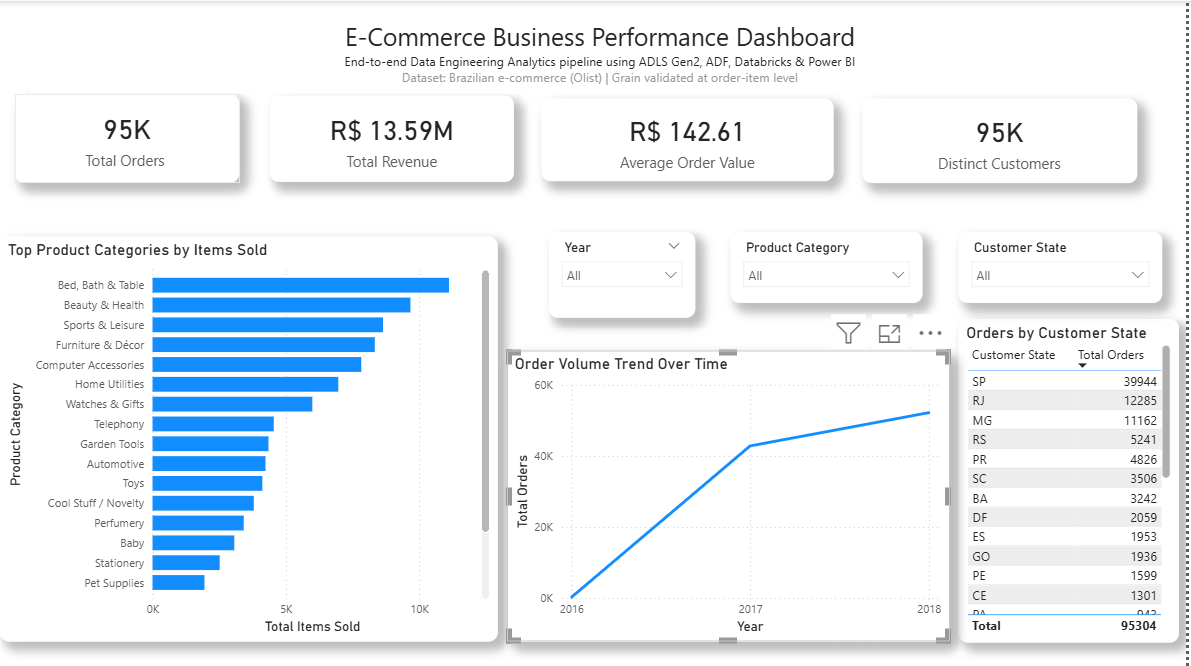

The page's visual inventory and layout, read from the dashboard file:
{"tool":"powerbi","page":{"name":"E-commerce Business Performance Dashboard","canvas":[1280,720],"ordinal":1},"visuals":[{"type":"card","fields":{"Values":["_Measures.Total Orders"]},"box":[16.9,100.3,242.3,95.8],"z":0},{"type":"card","fields":{"Values":["_Measures.Total Revenue"]},"box":[290.7,102.5,263.7,93.5],"z":1000},{"type":"card","fields":{"Values":["_Measures.Average Order Value"]},"box":[585.2,104.8,315.5,89],"z":2000},{"type":"card","fields":{"Values":["_Measures.Distinct Customers"]},"box":[931.8,104.8,296.3,91.3],"z":3000},{"type":"textbox","box":[32.7,14.6,1230.4,85.6],"z":4000},{"type":"lineChart","title":"Order Volume Trend Over Time","fields":{"Category":["dim_date.Year"],"Y":["_Measures.Total Orders (Order-level)"]},"box":[547.6,377.5,477.7,314.4],"z":5000},{"type":"barChart","title":"Top Product Categories by Items Sold","fields":{"Category":["dim_product_category.Product Category"],"Y":["_Measures.Total Items Sold"]},"box":[0,254.6,537.5,437.2],"z":6000},{"type":"tableEx","title":"Orders by Customer State","fields":{"Values":["dim_customers.Customer State","_Measures.Total Orders (Order-level)"]},"box":[1034.4,342.5,237.7,349.3],"z":7000},{"type":"slicer","fields":{"Values":["dim_date.Year"]},"box":[592.7,250.1,157.7,92.4],"z":8000},{"type":"slicer","fields":{"Values":["dim_product_category.Product Category"]},"box":[788.7,250.1,207.3,76.6],"z":9000},{"type":"slicer","fields":{"Values":["dim_customers.Customer State"]},"box":[1034.4,250.1,219.7,76.6],"z":10000}]}

Visuals, with their boxes in screenshot pixels (x1, y1, x2, y2), scaled from the page's 1280x720 canvas onto the 1191x666 screenshot:
card - _Measures.Total Orders: region(16, 93, 241, 181)
card - _Measures.Total Revenue: region(270, 95, 516, 181)
card - _Measures.Average Order Value: region(545, 97, 838, 179)
card - _Measures.Distinct Customers: region(867, 97, 1143, 181)
textbox: region(30, 14, 1175, 93)
"Order Volume Trend Over Time" lineChart: region(510, 349, 954, 640)
"Top Product Categories by Items Sold" barChart: region(0, 236, 500, 640)
"Orders by Customer State" tableEx: region(962, 317, 1184, 640)
slicer - dim_date.Year: region(551, 231, 698, 317)
slicer - dim_product_category.Product Category: region(734, 231, 927, 302)
slicer - dim_customers.Customer State: region(962, 231, 1167, 302)
